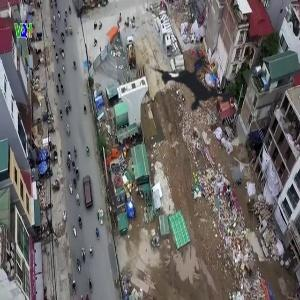drone: (133, 15, 265, 147)
